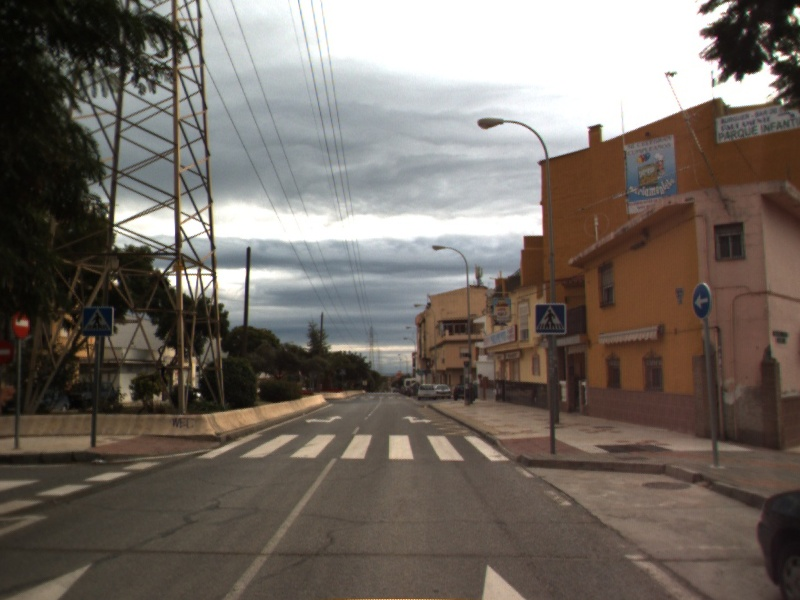STRAIGHT_LEFT: (302, 413, 344, 425)
STRAIGHT_RIGHT: (401, 413, 433, 425)
